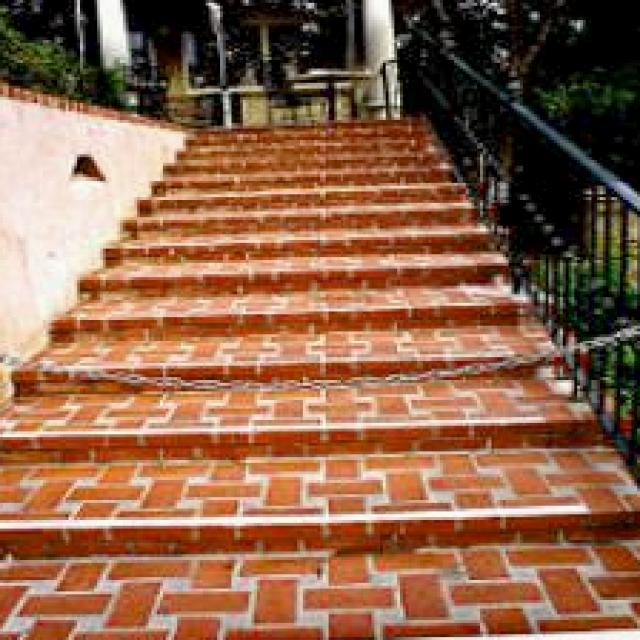upstair: (10, 298, 618, 601)
